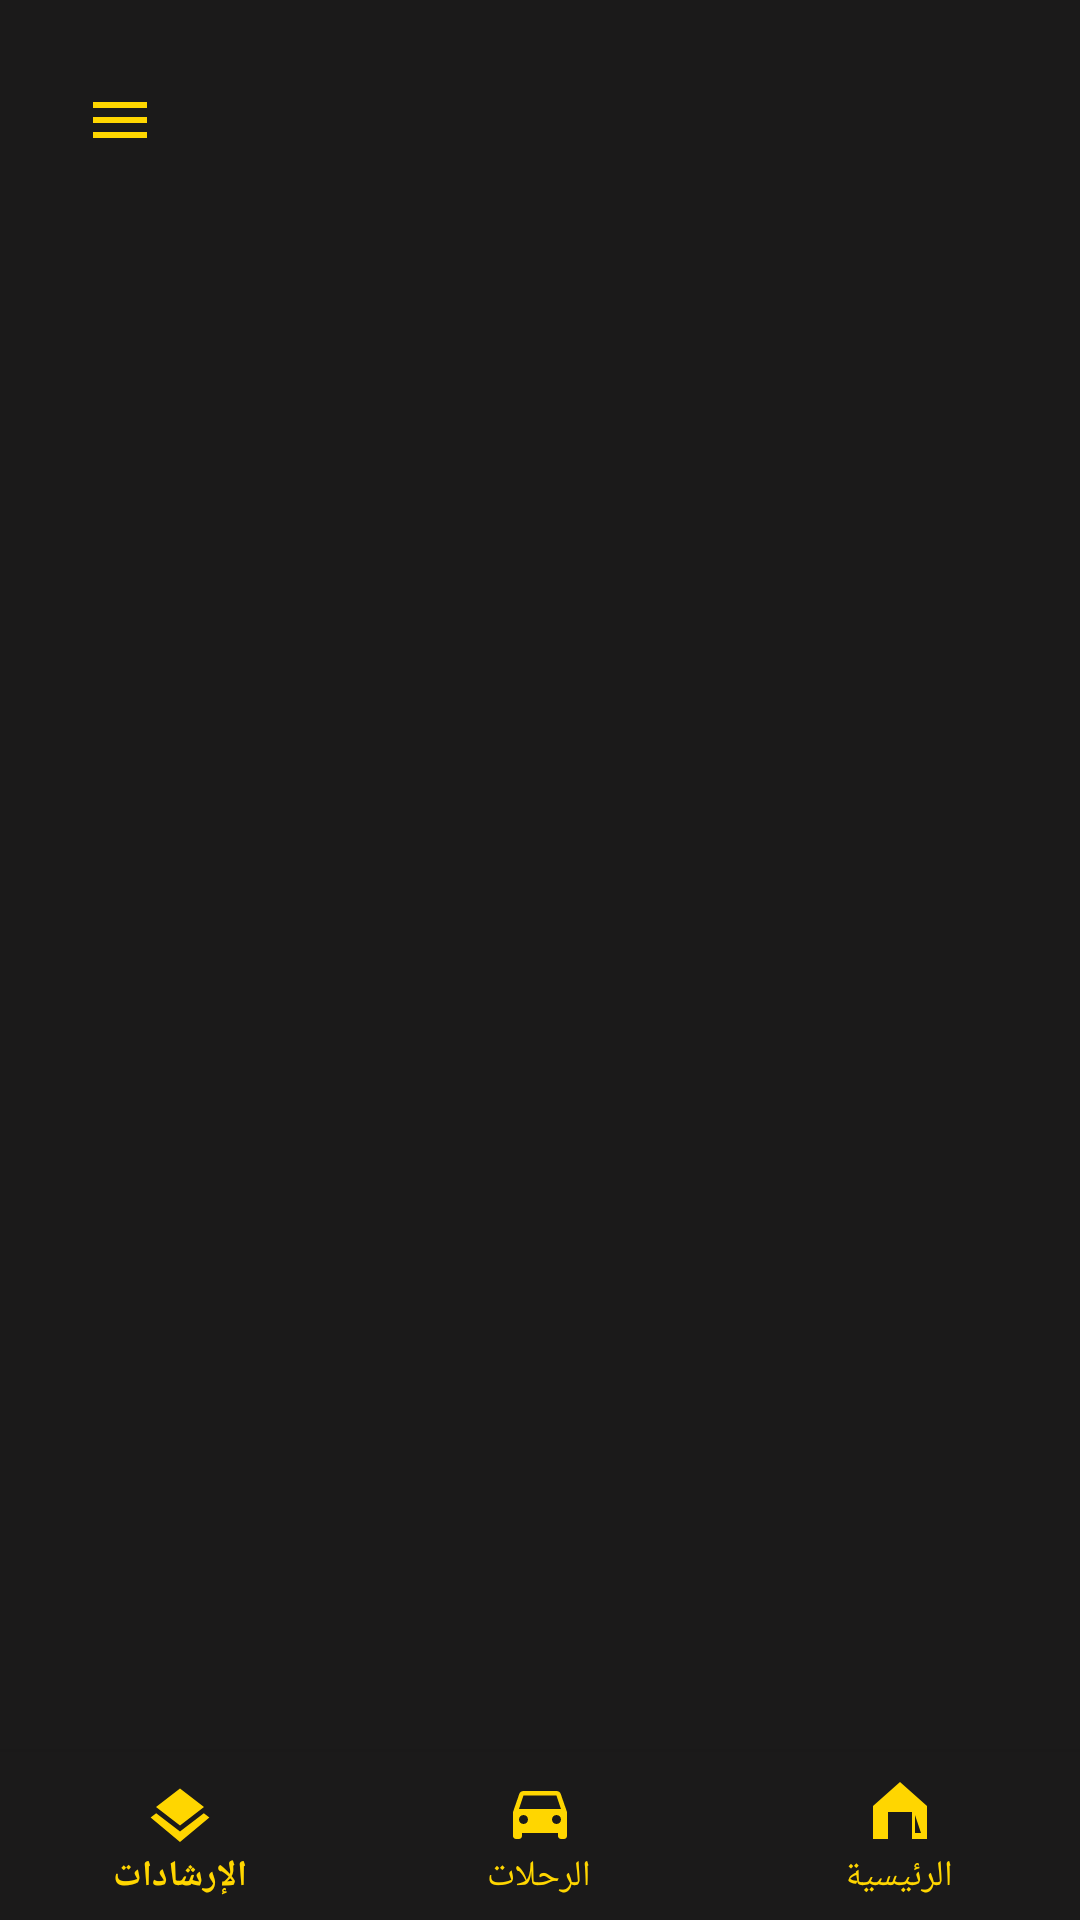

Screen size 1080 × 1920. Icon name, then its box in pixels as box(x1, y1, x2, y2):
menu: box(93, 102, 147, 138)
